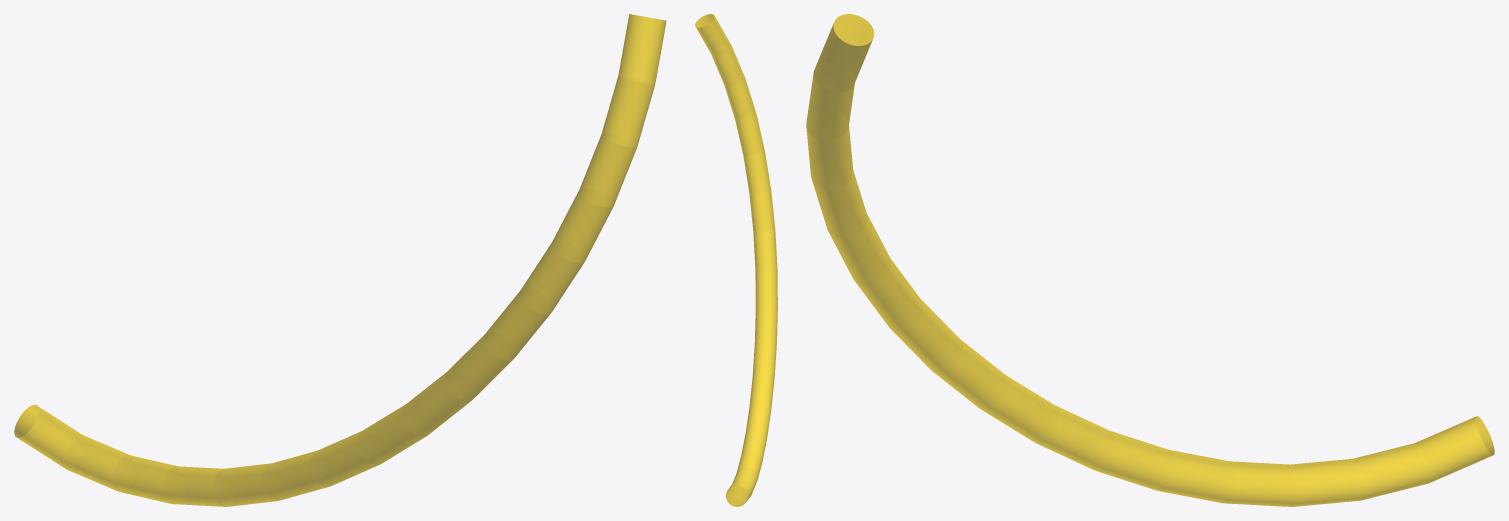
Rendered from Event_40932208_track_37.fbx.
The picture shows the model from 3 angles, left to right: view 1: azimuth 30°, elevation 25°; view 2: azimuth 150°, elevation 25°; view 3: azimuth 270°, elevation 25°; orthographic projection. The views are drawn at different scales.
Visible parts, largest first — view 1: Model; view 2: Model; view 3: Model.
Boxes of the visible parts, box(x1,y1,x2,y2) form: Model: box(14, 14, 666, 506); Model: box(695, 14, 777, 506); Model: box(806, 14, 1494, 506).
Bounding box in the file's own units: 0.4457 × 0.6625 × 0.646.
